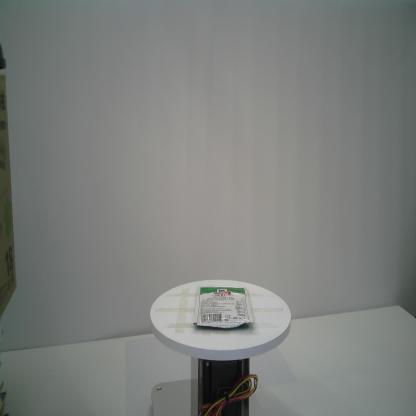Seasoner: (192, 284, 254, 328)
